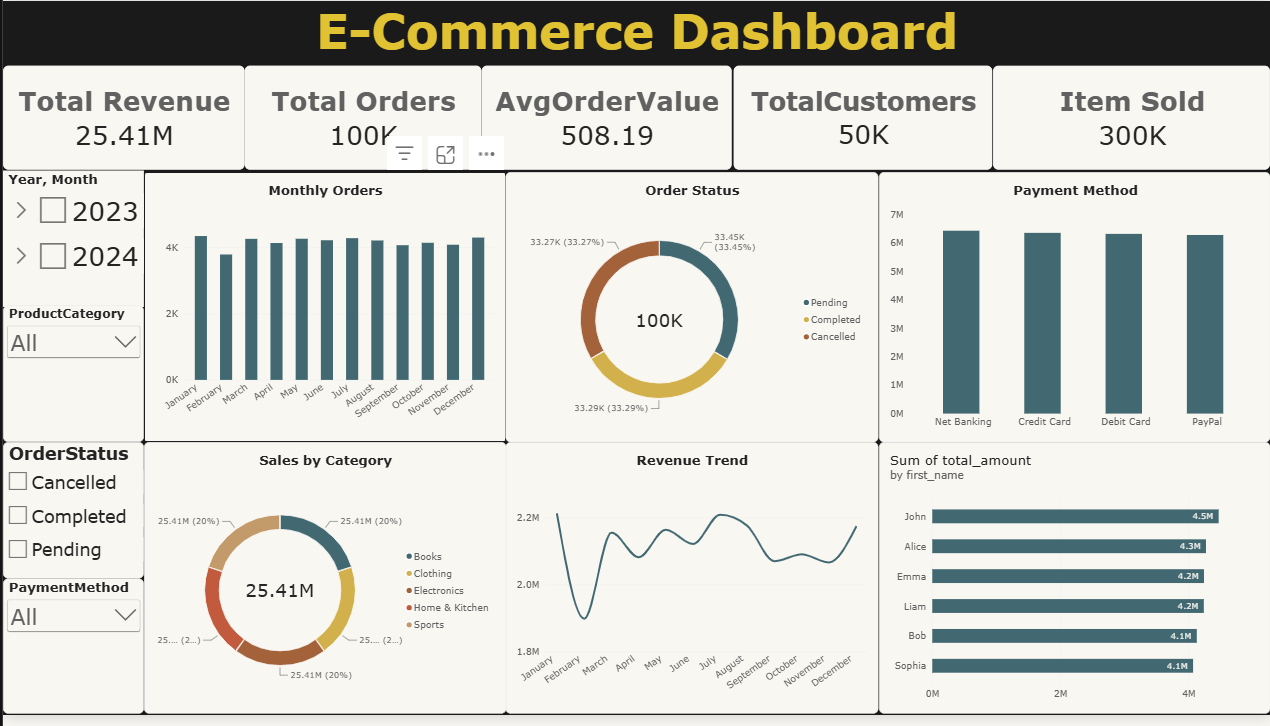

What the dashboard file says about the page in this screenshot:
{"tool":"powerbi","page":{"name":"Page 1","canvas":[1920,1080],"ordinal":0},"visuals":[{"type":"textbox","box":[0,0,1920,100.6],"z":0},{"type":"cardVisual","fields":{"Data":["Sum(orders.total_amount)"]},"box":[0,98.2,366.1,158.5],"z":1},{"type":"cardVisual","fields":{"Data":["CountNonNull(order_items.order_id)"]},"box":[366.1,98.2,359.4,158.5],"z":7},{"type":"cardVisual","fields":{"Data":["Avg(orders.total_amount)"]},"box":[725.6,98.2,379.5,158.5],"z":8},{"type":"cardVisual","fields":{"Data":["Sum(order_items.quantity)"]},"box":[1498,98.2,422,158.5],"z":10},{"type":"cardVisual","fields":{"Data":["CountNonNull(orders.customer_id)"]},"box":[1105.1,98.2,392.9,158.5],"z":11},{"type":"slicer","fields":{"Values":["orders.order_date.Variation.Date Hierarchy.Year","orders.order_date.Variation.Date Hierarchy.Month"]},"box":[0,256.7,213.5,206.7],"z":12},{"type":"slicer","fields":{"Values":["products.category"]},"box":[0,461.1,213.5,206.7],"z":16},{"type":"slicer","fields":{"Values":["orders.order_status"]},"box":[0,667.4,213.5,206.7],"z":17},{"type":"slicer","fields":{"Values":["payments.payment_method"]},"box":[0,874.5,213.5,204.4],"z":18},{"type":"lineChart","title":"Revenue Trend","fields":{"Category":["orders.order_date.Variation.Date Hierarchy.Month"],"Y":["Sum(orders.total_amount)"]},"box":[761.1,667.4,564.6,411.4],"z":19},{"type":"clusteredColumnChart","title":"Monthly Orders","fields":{"Category":["orders.order_date.Variation.Date Hierarchy.Month"],"Y":["CountNonNull(orders.order_id)"]},"box":[212.6,258.3,548.6,409.1],"z":20},{"type":"donutChart","title":"Order Status","fields":{"Category":["orders.order_status"],"Y":["CountNonNull(order_items.order_id)"]},"box":[761.1,258.3,564.6,409.1],"z":21},{"type":"donutChart","title":"Sales by Category","fields":{"Category":["products.category"],"Y":["Sum(orders.total_amount)"]},"box":[212.6,667.4,548.6,411.4],"z":22},{"type":"clusteredColumnChart","title":"Payment Method","fields":{"Category":["payments.payment_method"],"Y":["Sum(orders.total_amount)"]},"box":[1325.7,258.3,594.3,409.1],"z":23},{"type":"barChart","fields":{"Category":["customers.first_name"],"Y":["Sum(orders.total_amount)"]},"box":[1325.7,667.4,594.3,411.4],"z":24}]}

Visuals, with their boxes on the page's 1920x1080 design canvas (x1, y1, x2, y2). These are canvas units, not pixel positions in the 1270x726 screenshot, which may show the page scaled, cropped or inside an application window:
textbox: {"left": 0, "top": 0, "right": 1920, "bottom": 101}
cardVisual - Sum(orders.total_amount): {"left": 0, "top": 98, "right": 366, "bottom": 257}
cardVisual - CountNonNull(order_items.order_id): {"left": 366, "top": 98, "right": 726, "bottom": 257}
cardVisual - Avg(orders.total_amount): {"left": 726, "top": 98, "right": 1105, "bottom": 257}
cardVisual - Sum(order_items.quantity): {"left": 1498, "top": 98, "right": 1920, "bottom": 257}
cardVisual - CountNonNull(orders.customer_id): {"left": 1105, "top": 98, "right": 1498, "bottom": 257}
slicer - orders.order_date.Variation.Date Hierarchy.Year x orders.order_date.Variation.Date Hierarchy.Month: {"left": 0, "top": 257, "right": 214, "bottom": 463}
slicer - products.category: {"left": 0, "top": 461, "right": 214, "bottom": 668}
slicer - orders.order_status: {"left": 0, "top": 667, "right": 214, "bottom": 874}
slicer - payments.payment_method: {"left": 0, "top": 874, "right": 214, "bottom": 1079}
"Revenue Trend" lineChart: {"left": 761, "top": 667, "right": 1326, "bottom": 1079}
"Monthly Orders" clusteredColumnChart: {"left": 213, "top": 258, "right": 761, "bottom": 667}
"Order Status" donutChart: {"left": 761, "top": 258, "right": 1326, "bottom": 667}
"Sales by Category" donutChart: {"left": 213, "top": 667, "right": 761, "bottom": 1079}
"Payment Method" clusteredColumnChart: {"left": 1326, "top": 258, "right": 1920, "bottom": 667}
barChart - customers.first_name x Sum(orders.total_amount): {"left": 1326, "top": 667, "right": 1920, "bottom": 1079}
